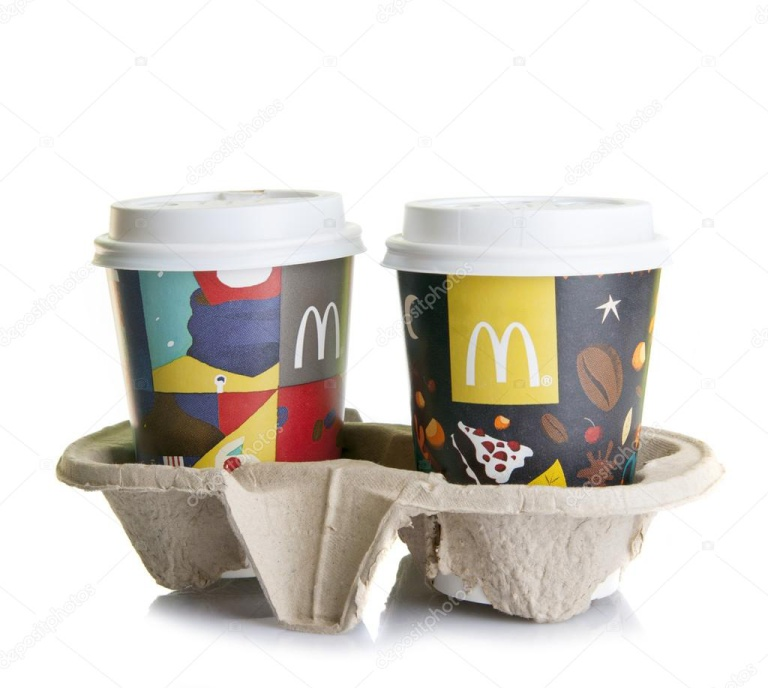mcdonalds: (461, 317, 545, 395)
